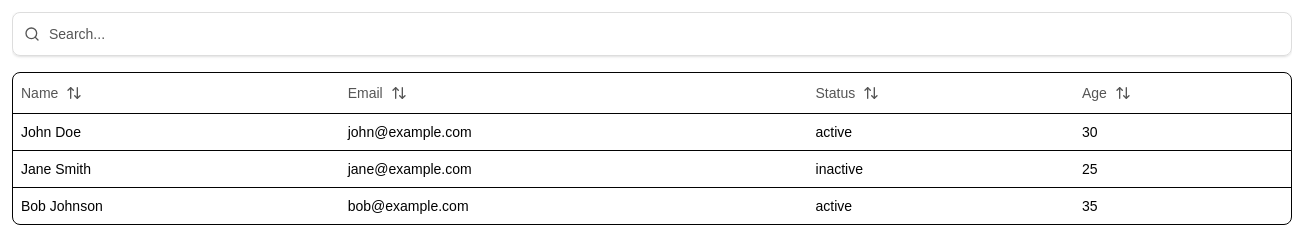
Test case: DataTable › Search Functionality › filters data based on search query
# Search for "Jane"
Type "Jane" into the field with placeholder "Search...".
click(652, 34); type("Jane")  # box [12, 12, 1292, 56]
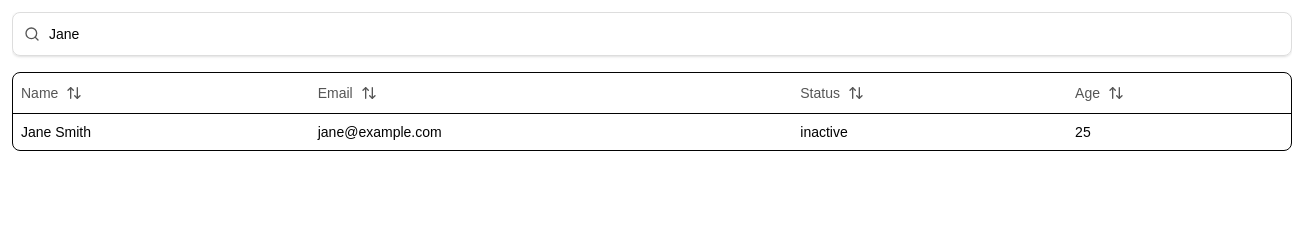
Check: the text "Jane Smith" is shown, box [13, 113, 310, 150]
Check: the text "John Doe" is not shown
